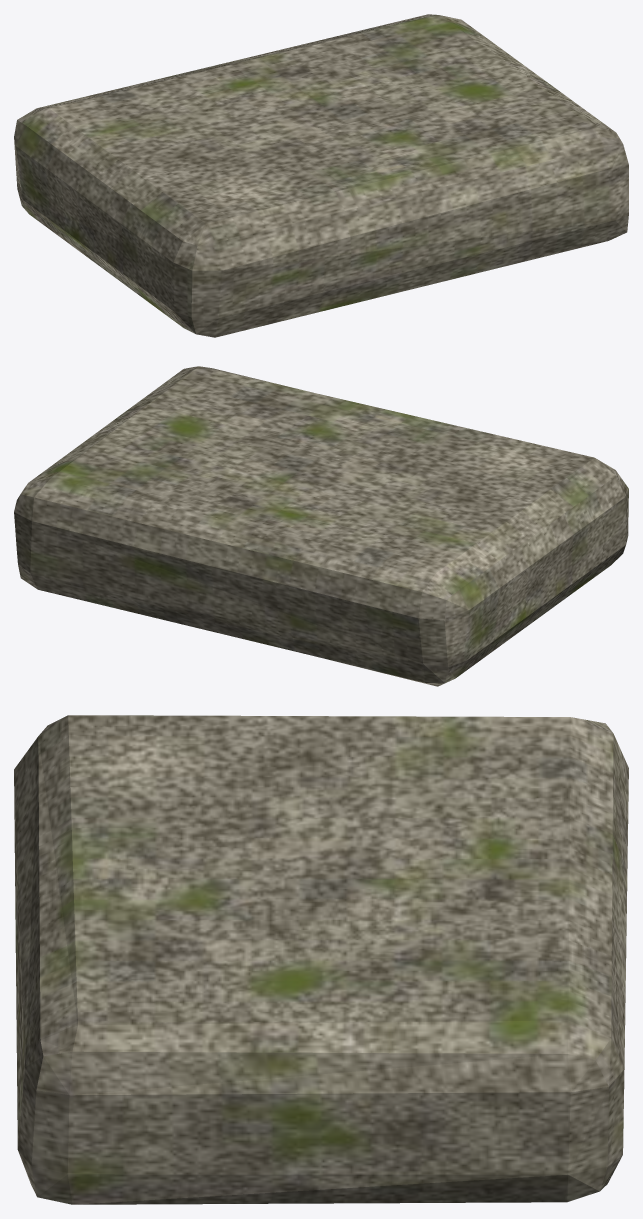
The model's file is Stepping_Stone.glb.
The picture shows the model from 3 angles, top to bottom: view 1: azimuth 30°, elevation 25°; view 2: azimuth 150°, elevation 25°; view 3: azimuth 270°, elevation 25°; orthographic projection. The views are drawn at different scales.
Parts seen in each view (by area): view 1: Stepping_Stone; view 2: Stepping_Stone; view 3: Stepping_Stone.
Boxes of the visible parts, bbox=[...] form: Stepping_Stone: bbox=[14, 14, 628, 337]; Stepping_Stone: bbox=[14, 366, 628, 686]; Stepping_Stone: bbox=[14, 715, 628, 1204].
Bounding box in the file's own units: 0.8596 × 0.2049 × 0.631.
1 material, 1 textured.
